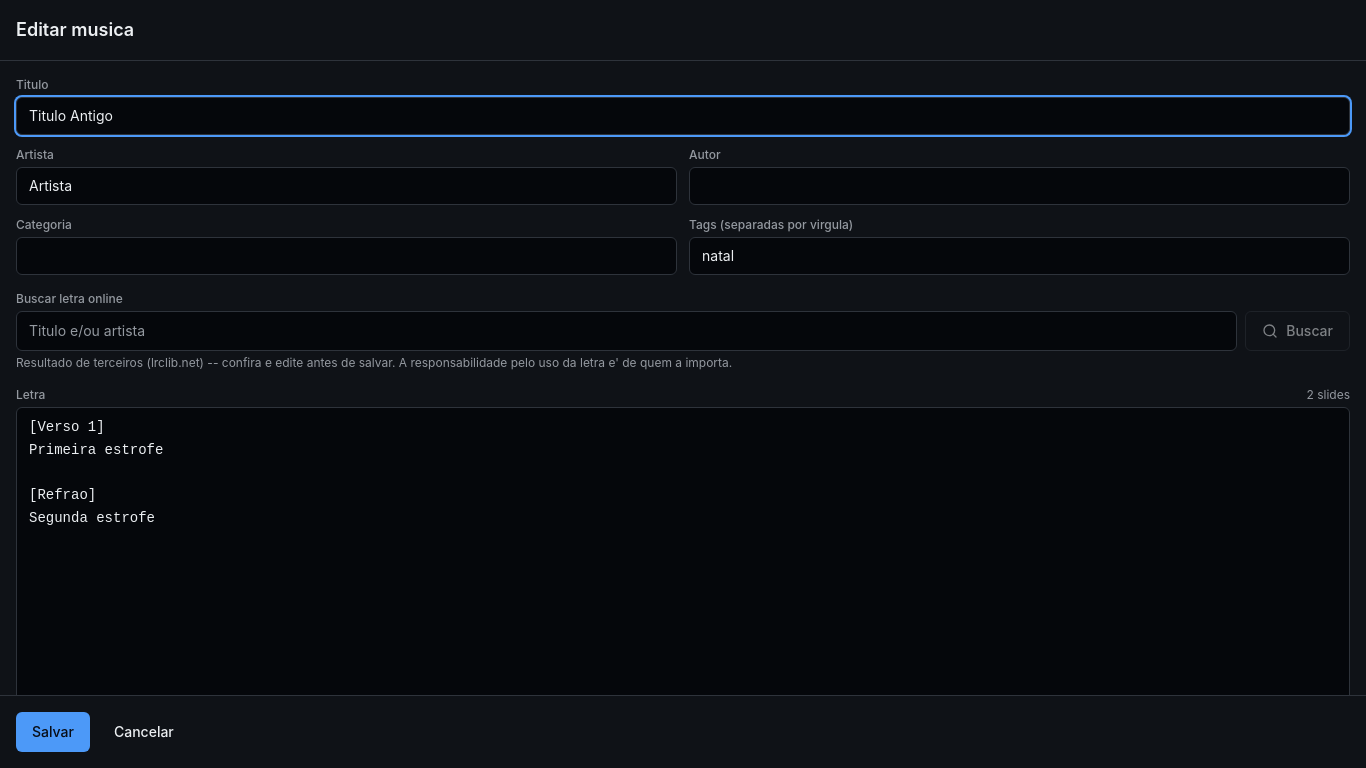
edicao › salva mantendo o id da musica editada
The width and height of the screenshot is (1366, 768).
Step 1. Replace the text in the field labelled "Titulo" with "Titulo Novo" → [683, 116], box [16,97,1350,135]
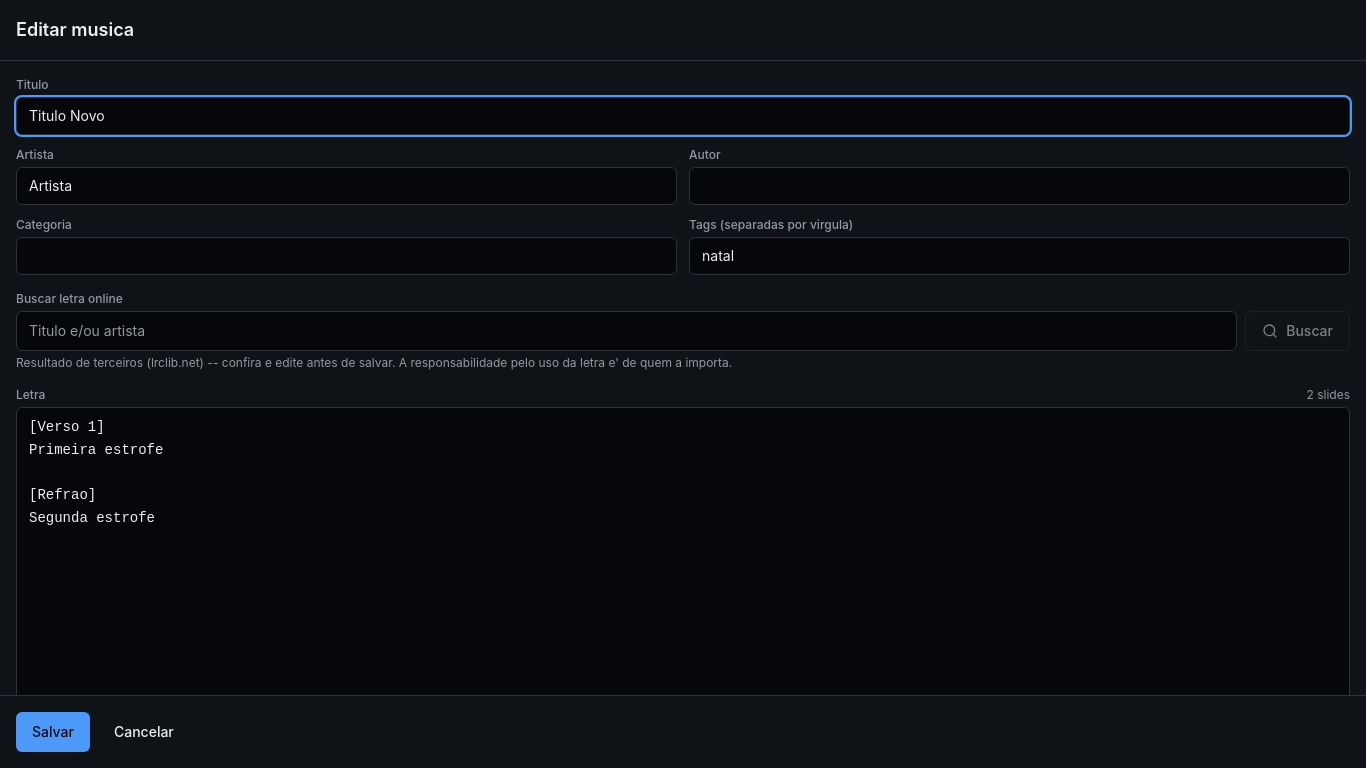
Step 2. Click the button "Salvar" → [53, 732], box [16,712,90,752]
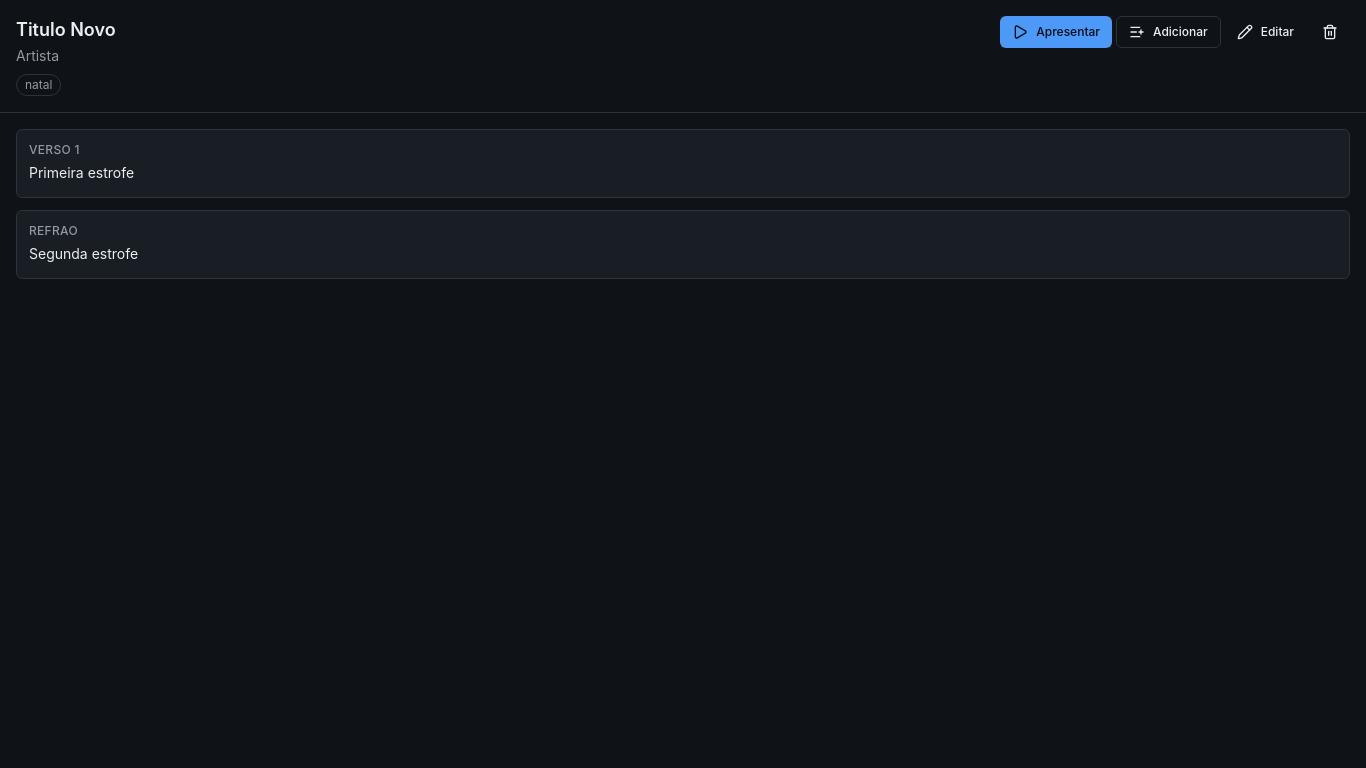
Now the heading "Titulo Novo" is shown, box [16,16,116,44]
